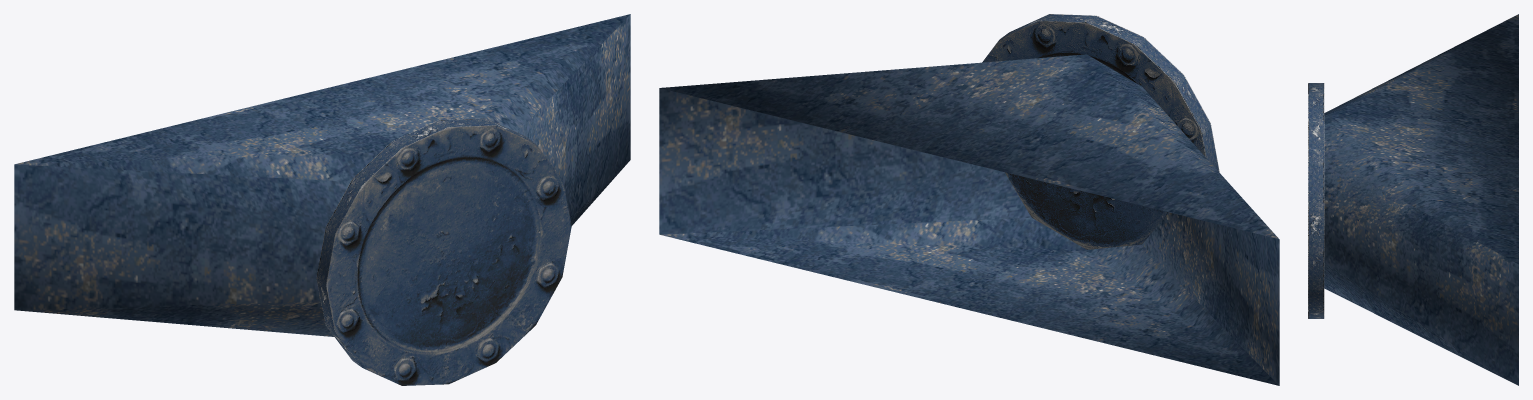
The model's file is gate_blue.DAE.
3 renders of one model, left to right at view 1: azimuth 30°, elevation 25°; view 2: azimuth 150°, elevation 25°; view 3: azimuth 270°, elevation 25°, orthographic. The views are drawn at different scales.
Parts seen in each view (by area): view 1: Object532, Object533; view 2: Object532, Object533; view 3: Object532, Object533.
Boxes of the visible parts, <box> form: Object532: <box>14,14,630,336</box>; Object533: <box>316,118,571,385</box>; Object532: <box>659,54,1279,385</box>; Object533: <box>982,14,1219,249</box>; Object532: <box>1324,14,1518,385</box>; Object533: <box>1308,83,1324,318</box>.
Bounding box in the file's own units: 1.65 × 0.5858 × 0.6566.
